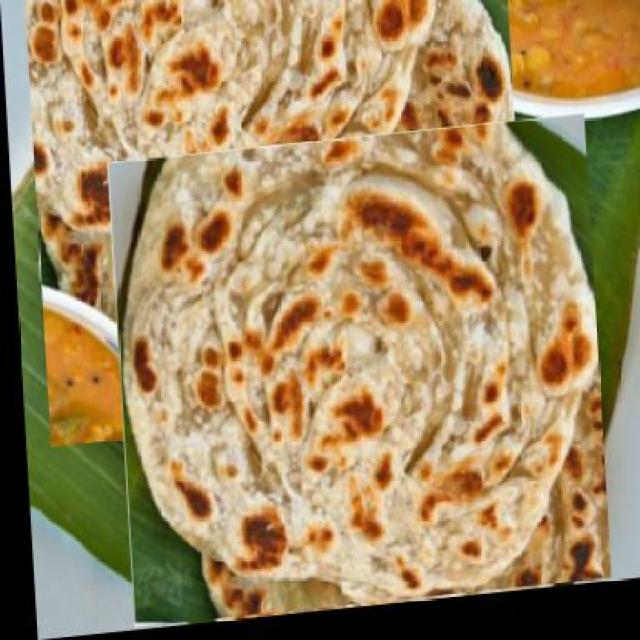chapati: (105, 125, 606, 630), (24, 0, 527, 449)
